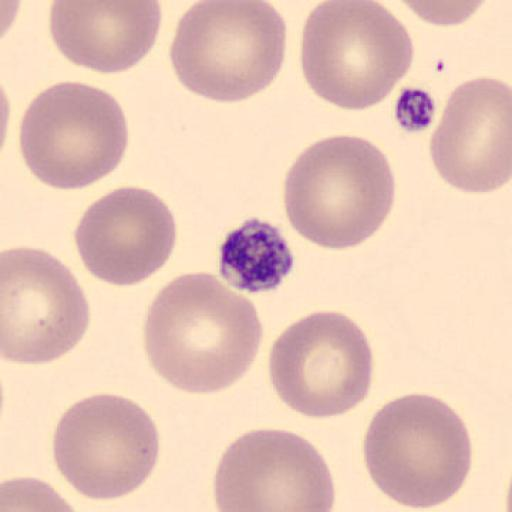Platelet: (216, 215, 297, 296), (391, 82, 440, 134)
RBC: (141, 270, 264, 396), (281, 132, 397, 252), (360, 392, 474, 512), (298, 0, 416, 113), (18, 78, 130, 192), (50, 391, 162, 503), (168, 0, 288, 104), (267, 308, 374, 420), (72, 183, 178, 288), (2, 245, 90, 367), (212, 427, 337, 512), (428, 74, 512, 194), (48, 0, 164, 76), (2, 475, 82, 512), (392, 0, 491, 28), (0, 0, 23, 49), (0, 75, 10, 170), (0, 75, 11, 161)
